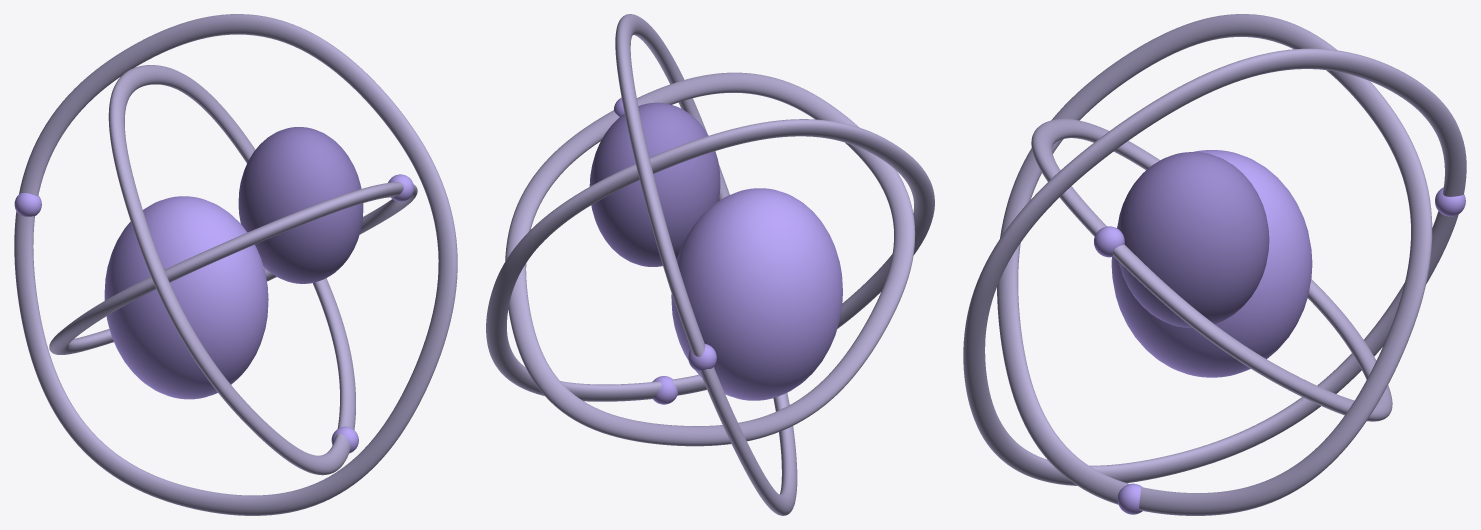
3 views of the same model, side by side, from view 1: azimuth 30°, elevation 25°; view 2: azimuth 150°, elevation 25°; view 3: azimuth 270°, elevation 25° (orthographic). The views are drawn at different scales.
Bounding box in the file's own units: 0.9436 × 1.12 × 1.05.
